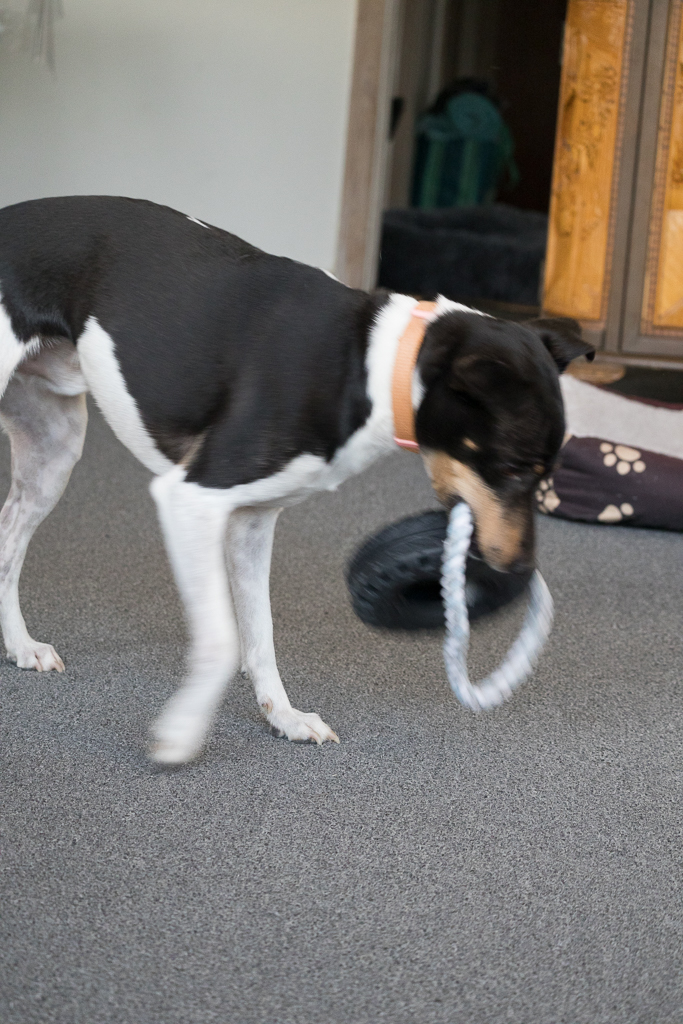Dog: (0, 179, 621, 779)
